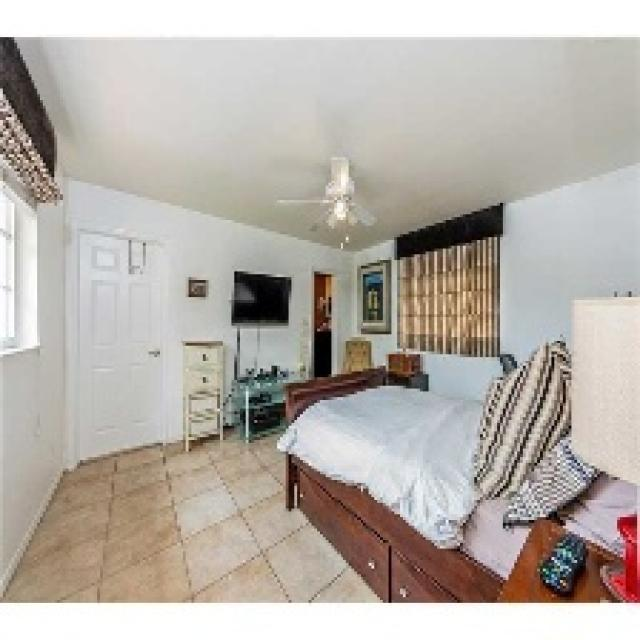bed: (312, 386, 596, 543)
